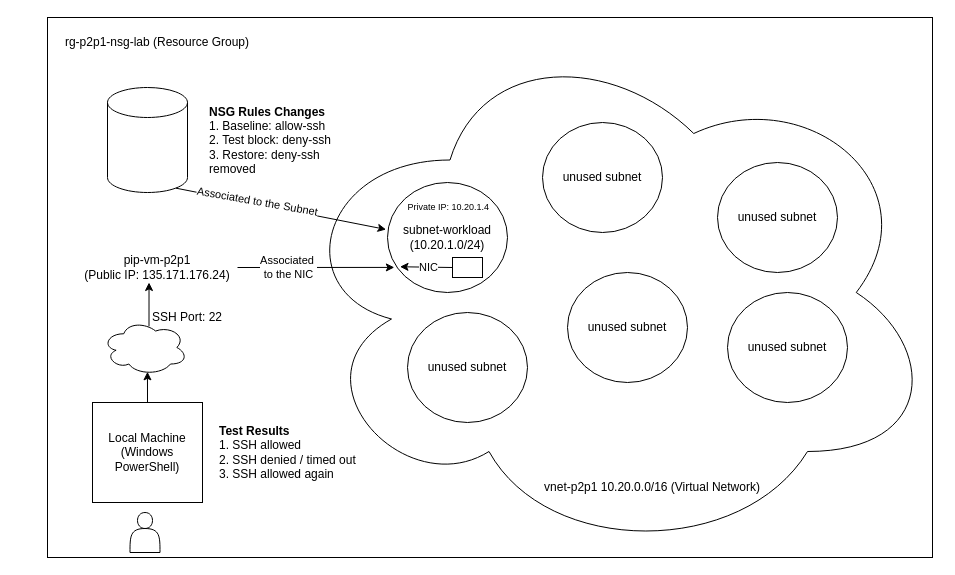
This 955x575 diagram has some shape labels left out. Here are the shapes that lost their labels. From the top down, the box of each, then its label:
(106, 86, 188, 192): nsg-p2p1 (NSG)
(452, 256, 482, 278): VM
(102, 319, 188, 375): Internet
(129, 512, 160, 552): User
